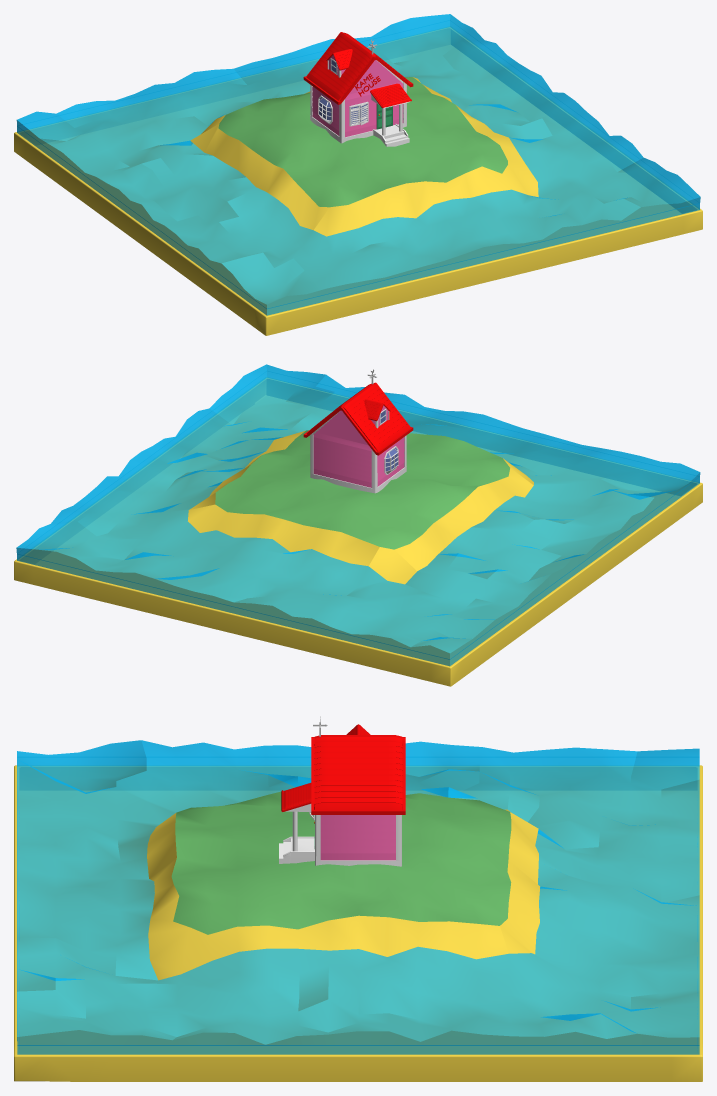
File: Kame House1.glb
The picture shows the model from 3 angles, top to bottom: view 1: azimuth 30°, elevation 25°; view 2: azimuth 150°, elevation 25°; view 3: azimuth 270°, elevation 25°; orthographic projection. The views are drawn at different scales.
Visible parts, largest first — view 1: Floor, Roof, Planks, Bottom House, Stairs and AwningSupports, Door Awning; view 2: Floor, Planks, Roof, Bottom House; view 3: Floor, Roof, Planks, Stairs and AwningSupports, Bottom House, Door Awning.
Boxes of the visible parts, <box> form: Floor: <box>14,14,702,335</box>; Roof: <box>303,32,413,104</box>; Planks: <box>312,60,403,137</box>; Bottom House: <box>310,82,406,143</box>; Stairs and AwningSupports: <box>373,104,409,146</box>; Door Awning: <box>370,83,411,108</box>; Floor: <box>14,364,702,686</box>; Planks: <box>313,410,404,487</box>; Roof: <box>303,382,413,455</box>; Bottom House: <box>310,433,406,493</box>; Floor: <box>14,740,702,1081</box>; Roof: <box>311,735,405,814</box>; Planks: <box>320,815,395,860</box>; Stairs and AwningSupports: <box>279,811,314,863</box>; Bottom House: <box>315,815,401,866</box>; Door Awning: <box>281,783,311,811</box>.
Size of the model in its own units: 41.38 by 14.63 by 41.38.
